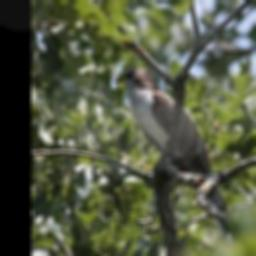Cuckoo: (112, 66, 241, 240)
